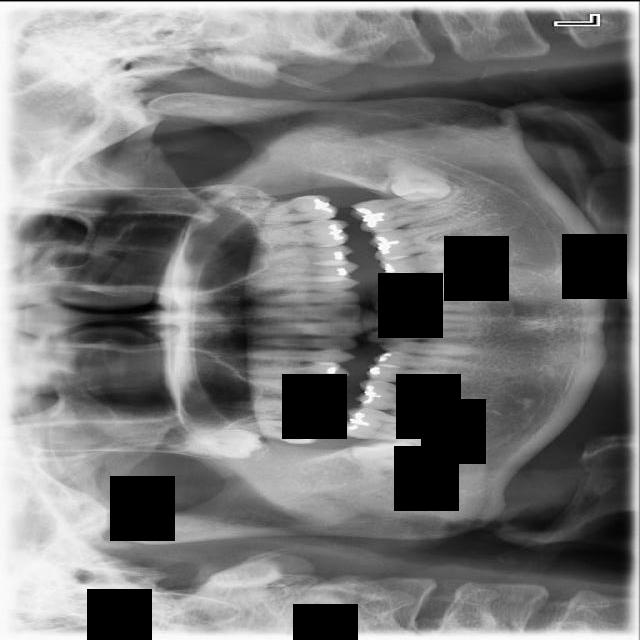3M ESPE Implant: (156, 423, 263, 459)
52: (336, 401, 392, 443), (348, 195, 403, 236), (366, 221, 418, 264), (353, 375, 403, 415), (279, 193, 340, 223), (296, 218, 350, 247), (281, 415, 327, 447), (377, 250, 421, 281), (312, 258, 359, 282), (293, 394, 337, 419), (306, 243, 352, 265), (298, 374, 343, 396), (304, 361, 349, 380), (366, 363, 407, 382), (374, 350, 413, 367), (383, 271, 422, 288)
73: (559, 24, 569, 28)
BioHorizons Implant: (231, 193, 337, 226)
Biomet 3i Implant: (380, 154, 456, 208)
Blue Sky Bio Implant: (348, 189, 466, 235)
Caries: (211, 418, 326, 443)
Implant: (337, 404, 440, 447)
Keystone Dental Implant: (351, 437, 422, 492)
